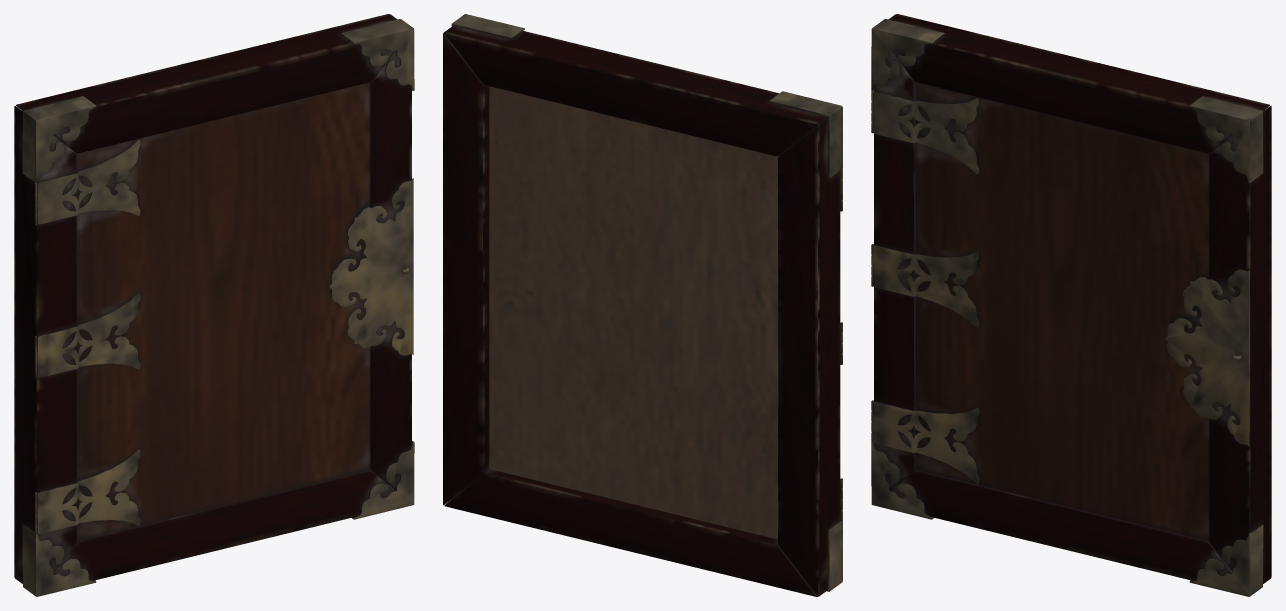
Rendered from SM_Cabinet240_doorTL.fbx.
3 renders of one model, left to right at view 1: azimuth 30°, elevation 25°; view 2: azimuth 150°, elevation 25°; view 3: azimuth 330°, elevation 25°, orthographic.
Parts seen in each view (by area): view 1: SM_Cabinet240_doorTL; view 2: SM_Cabinet240_doorTL; view 3: SM_Cabinet240_doorTL.
Part boxes in pixels (bbox=[...]): SM_Cabinet240_doorTL: bbox=[14, 14, 414, 596]; SM_Cabinet240_doorTL: bbox=[443, 14, 842, 596]; SM_Cabinet240_doorTL: bbox=[871, 14, 1271, 596].
Size of the model in its own units: 24.13 by 29.03 by 3.01.
Materials: 1 (1 with a texture image).
